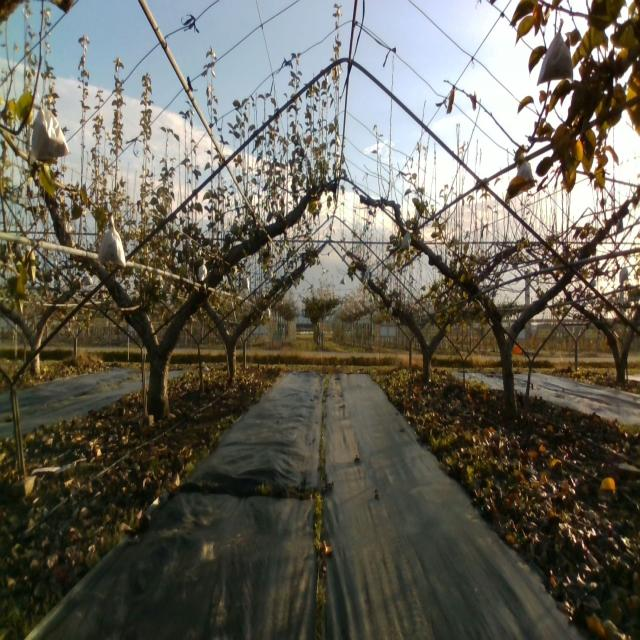pearbags: (28, 90, 70, 165), (536, 18, 573, 86), (96, 210, 126, 267), (516, 162, 533, 186), (401, 229, 412, 250)
